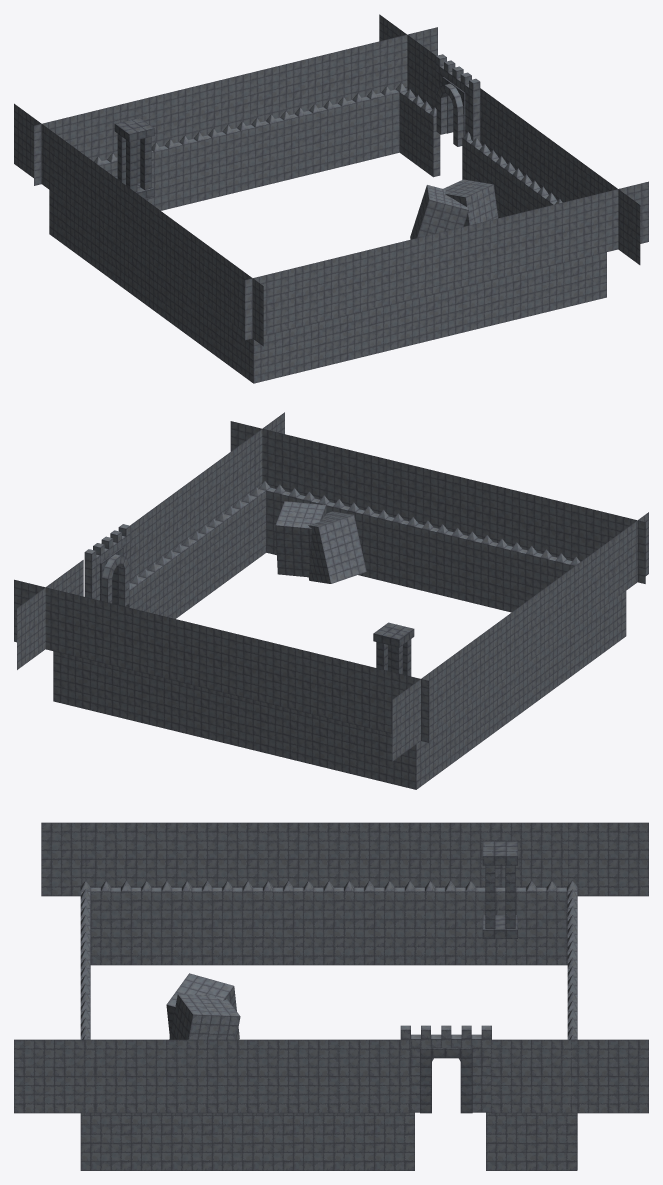
Rendered from Wall.fbx.
The picture shows the model from 3 angles, top to bottom: view 1: azimuth 30°, elevation 25°; view 2: azimuth 150°, elevation 25°; view 3: azimuth 270°, elevation 25°; orthographic projection. The views are drawn at different scales.
Parts seen in each view (by area): view 1: Castle_Wall_14__27_, Castle_Wall_14__28_, Castle_Wall_14__29_, Castle_Wall_14__30_, Castle_Ground___Bright_8x8__26_, Castle_Ground___Bright_8x8__23_, Castle_Ground___Bright_8x8__22_, Castle_Ground___Bright_8x8__24_, Castle_Ground___Bright_8x8__25_, Castle_Gate_5__1_, Castle_Wall_14__31_, Castle_Ground___Bright_8x8__18_ (+43 smaller); view 2: Castle_Wall_14__34_, Castle_Wall_14__33_, Castle_Ground___Bright_8x8__15_, Castle_Ground___Bright_8x8__14_, Castle_Ground___Bright_8x8__17_, Castle_Ground___Bright_8x8__16_, Castle_Ground___Bright_8x8__18_, Castle_Ground___Bright_8x8__23_, Castle_Ground___Bright_8x8__24_, Castle_Ground___Bright_8x8__26_, Castle_Ground___Bright_8x8__25_, Castle_Block_5x5x7__3_ (+43 smaller); view 3: Castle_Wall_14__24__1, Castle_Wall_14__24__4, Castle_Wall_14__24_, Castle_Wall_14__24__3, Castle_Wall_14__24__5, Castle_Ground___Bright_8x8__3__1, Castle_Ground___Bright_8x8__3__3, Castle_Ground___Bright_8x8__4_, Castle_Ground___Bright_8x8__3__2, Castle_Ground___Bright_8x8__3__4, Castle_Ground___Bright_8x8__13_, Castle_Ground___Bright_8x8__4__1 (+18 smaller).
Boxes of the visible parts, box(x1,y1,x2,y2) form: Castle_Wall_14__27_: box(169, 125, 233, 208); Castle_Wall_14__28_: box(226, 111, 291, 194); Castle_Wall_14__29_: box(284, 96, 349, 178); Castle_Wall_14__30_: box(342, 82, 401, 166); Castle_Ground___Bright_8x8__26_: box(533, 195, 591, 269); Castle_Ground___Bright_8x8__23_: box(360, 238, 418, 312); Castle_Ground___Bright_8x8__22_: box(302, 252, 360, 326); Castle_Ground___Bright_8x8__24_: box(418, 224, 475, 297); Castle_Ground___Bright_8x8__25_: box(476, 209, 533, 283); Castle_Gate_5__1_: box(435, 54, 480, 146); Castle_Wall_14__31_: box(249, 322, 318, 383); Castle_Ground___Bright_8x8__18_: box(322, 41, 380, 106); Castle_Wall_14__34_: box(377, 509, 443, 595); Castle_Wall_14__33_: box(436, 524, 503, 608); Castle_Ground___Bright_8x8__15_: box(251, 637, 310, 713); Castle_Ground___Bright_8x8__14_: box(310, 652, 369, 728); Castle_Ground___Bright_8x8__17_: box(132, 608, 191, 684); Castle_Ground___Bright_8x8__16_: box(191, 623, 250, 699); Castle_Ground___Bright_8x8__18_: box(73, 594, 132, 670); Castle_Ground___Bright_8x8__23_: box(467, 479, 526, 549); Castle_Ground___Bright_8x8__24_: box(408, 464, 467, 535); Castle_Ground___Bright_8x8__26_: box(290, 435, 349, 506); Castle_Ground___Bright_8x8__25_: box(349, 450, 408, 520); Castle_Block_5x5x7__3_: box(308, 511, 366, 583); Castle_Wall_14__24__1: box(161, 880, 252, 965); Castle_Wall_14__24__4: box(242, 880, 333, 965); Castle_Wall_14__24_: box(81, 880, 171, 965); Castle_Wall_14__24__3: box(405, 880, 495, 965); Castle_Wall_14__24__5: box(323, 880, 414, 965); Castle_Ground___Bright_8x8__3__1: box(166, 1039, 247, 1113); Castle_Ground___Bright_8x8__3__3: box(247, 1039, 328, 1113); Castle_Ground___Bright_8x8__4_: box(14, 1039, 94, 1113); Castle_Ground___Bright_8x8__3__2: box(491, 1039, 571, 1113); Castle_Ground___Bright_8x8__3__4: box(329, 1039, 409, 1113); Castle_Ground___Bright_8x8__13_: box(568, 822, 648, 896); Castle_Ground___Bright_8x8__4__1: box(572, 1039, 648, 1113).
Size of the model in its own units: 4200 by 1175 by 4700.
1 material, 1 textured.
